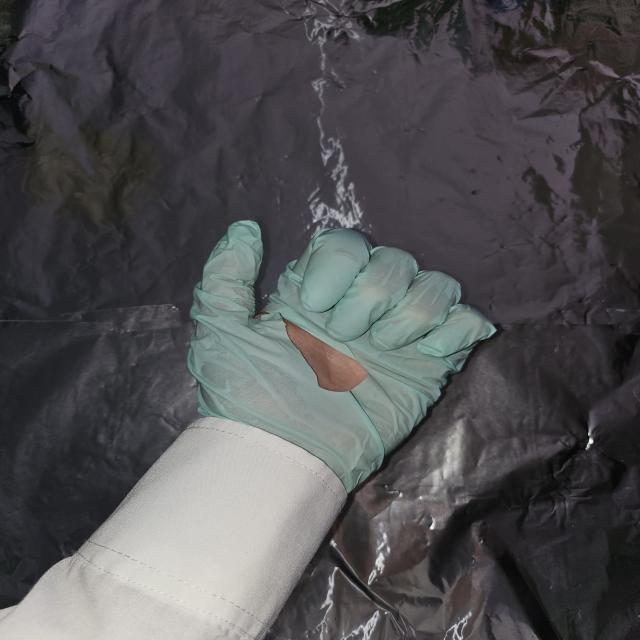gloves_damaged: (162, 124, 505, 504)
